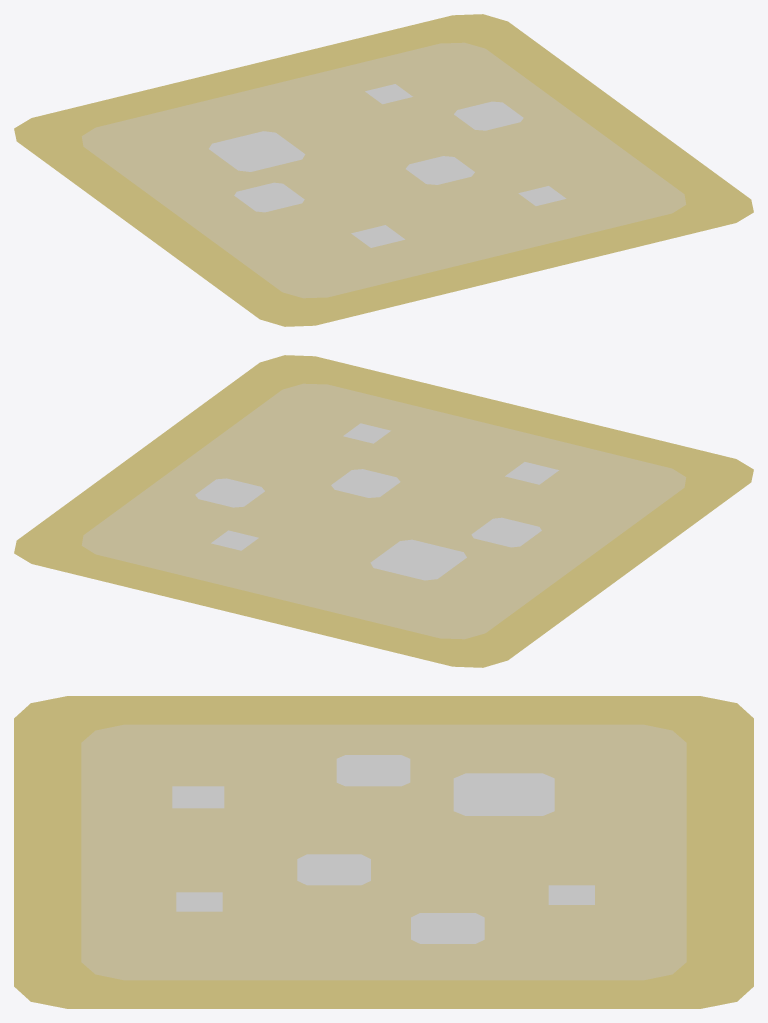
Rendered from BC_cookrecipe_04.fbx.
3 views of the same model, one above another, from view 1: azimuth 30°, elevation 25°; view 2: azimuth 150°, elevation 25°; view 3: azimuth 270°, elevation 25° (orthographic). The views are drawn at different scales.
Parts seen in each view (by area): view 1: base, boko, boko4, boko2, boko1, boko3, boko5, boko6; view 2: base, boko, boko4, boko2, boko1, boko3, boko5, boko6; view 3: base, boko, boko4, boko1, boko2, boko3, boko5, boko6.
Boxes of the visible parts, <box> form: base: <box>14,14,753,326</box>; boko: <box>209,131,305,171</box>; boko4: <box>234,182,304,212</box>; boko2: <box>454,101,523,130</box>; boko1: <box>406,156,474,184</box>; boko3: <box>351,225,404,247</box>; boko5: <box>365,84,412,104</box>; boko6: <box>518,186,566,205</box>; base: <box>14,355,753,667</box>; boko: <box>370,539,466,580</box>; boko4: <box>471,517,541,547</box>; boko2: <box>195,478,264,507</box>; boko1: <box>331,469,400,497</box>; boko3: <box>505,462,558,484</box>; boko5: <box>211,530,258,550</box>; boko6: <box>343,423,390,443</box>; base: <box>14,696,753,1008</box>; boko: <box>453,773,554,815</box>; boko4: <box>336,755,410,786</box>; boko1: <box>297,854,370,885</box>; boko2: <box>411,913,484,943</box>; boko3: <box>172,786,224,808</box>; boko5: <box>548,885,594,904</box>; boko6: <box>176,892,222,911</box>.
Size of the model in its own units: 3.5 by 0.033 by 3.5.
